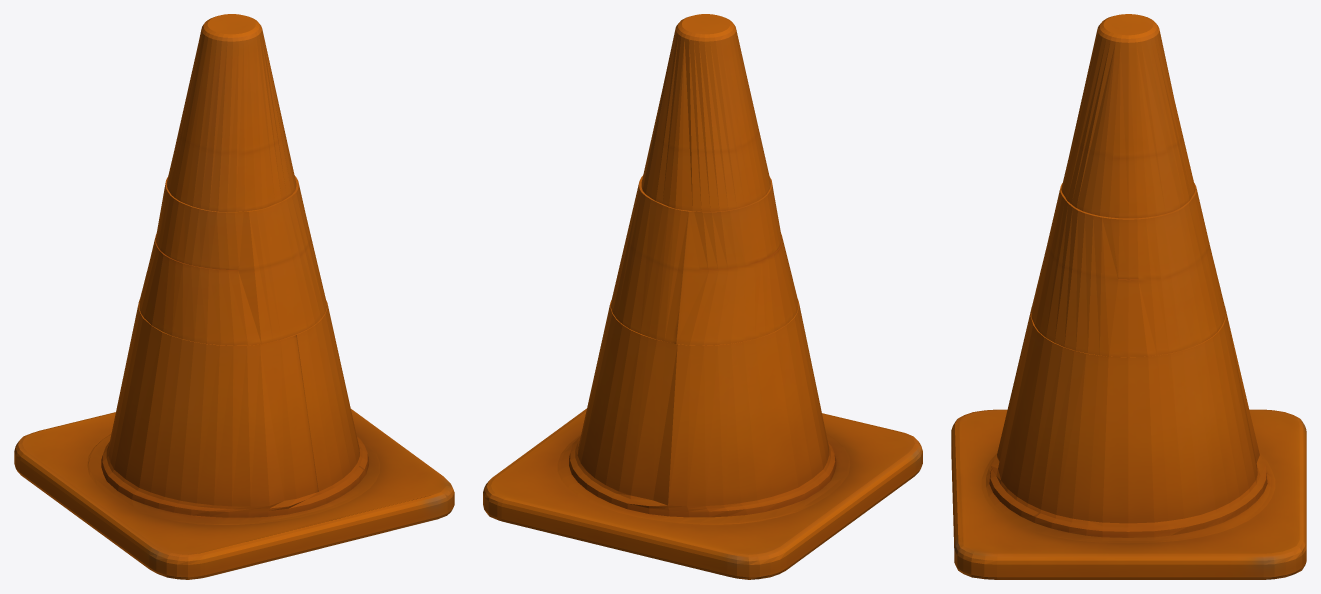
The picture shows the model from 3 angles, left to right: view 1: azimuth 30°, elevation 25°; view 2: azimuth 150°, elevation 25°; view 3: azimuth 270°, elevation 25°; orthographic projection. The views are drawn at different scales.
Parts seen in each view (by area): view 1: texture_pbr_v128; view 2: texture_pbr_v128; view 3: texture_pbr_v128.
Part boxes in pixels (left/top/right/bottom): texture_pbr_v128: left=14, top=14, right=454, bottom=579; texture_pbr_v128: left=483, top=14, right=922, bottom=579; texture_pbr_v128: left=951, top=14, right=1306, bottom=579.
Bounding box in the file's own units: 0.6062 × 0.9032 × 0.6062.
1 material, 1 textured.
